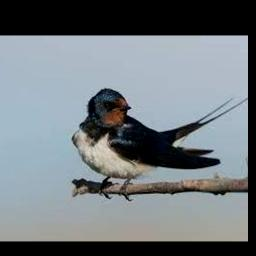Swallow: (73, 89, 248, 197)
